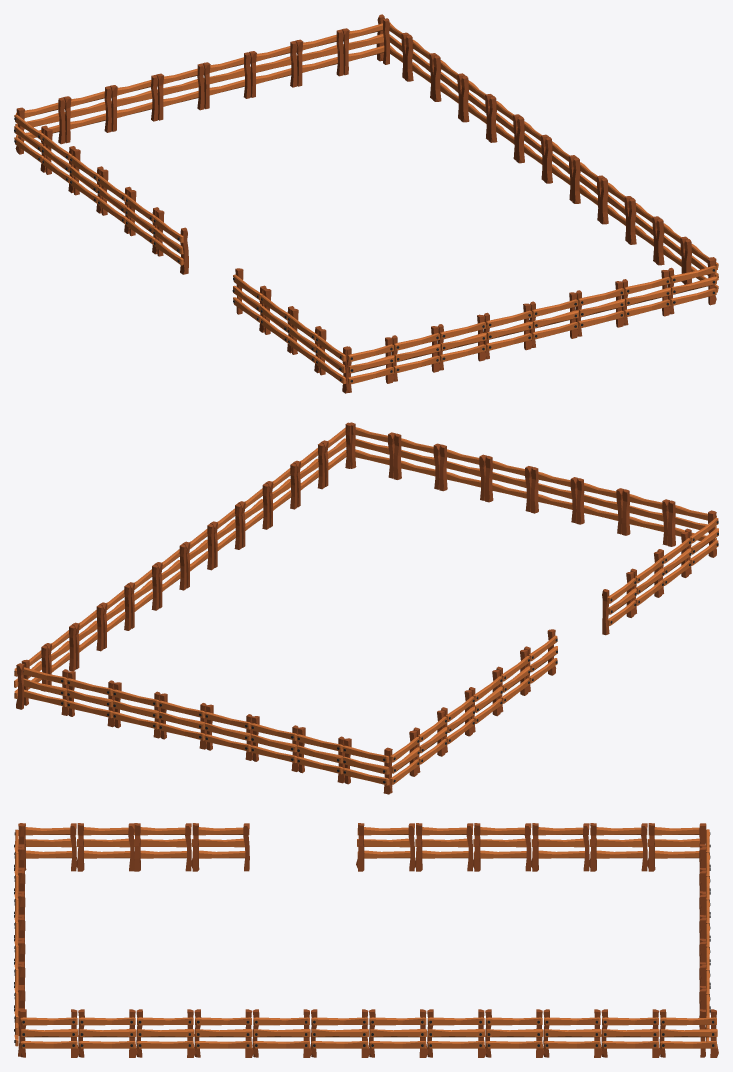
Rendered from weilan.fbx.
The picture shows the model from 3 angles, top to bottom: view 1: azimuth 30°, elevation 25°; view 2: azimuth 150°, elevation 25°; view 3: azimuth 270°, elevation 25°; orthographic projection. The views are drawn at different scales.
Parts seen in each view (by area): view 1: polySurface1597, polySurface1665, polySurface1598, polySurface1605; view 2: polySurface1665, polySurface1598, polySurface1597, polySurface1605; view 3: polySurface1665, polySurface1605, polySurface1598, polySurface1597.
Part boxes in pixels (box(x1,y1,x2,y2)): polySurface1597: box(346, 258, 716, 392); polySurface1665: box(376, 14, 718, 292); polySurface1598: box(15, 18, 389, 154); polySurface1605: box(14, 108, 350, 393); polySurface1665: box(14, 422, 351, 709); polySurface1598: box(21, 659, 392, 794); polySurface1597: box(347, 422, 716, 555); polySurface1605: box(385, 511, 718, 793); polySurface1665: box(20, 1009, 718, 1057); polySurface1605: box(18, 823, 705, 871); polySurface1598: box(699, 823, 710, 1057); polySurface1597: box(14, 823, 25, 1056).
Size of the model in its own units: 958 by 106 by 1483.
